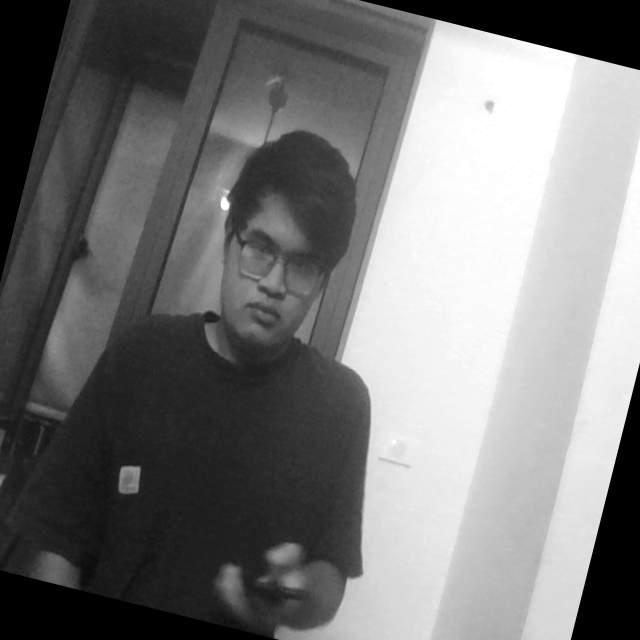phone: (214, 536, 324, 634)
